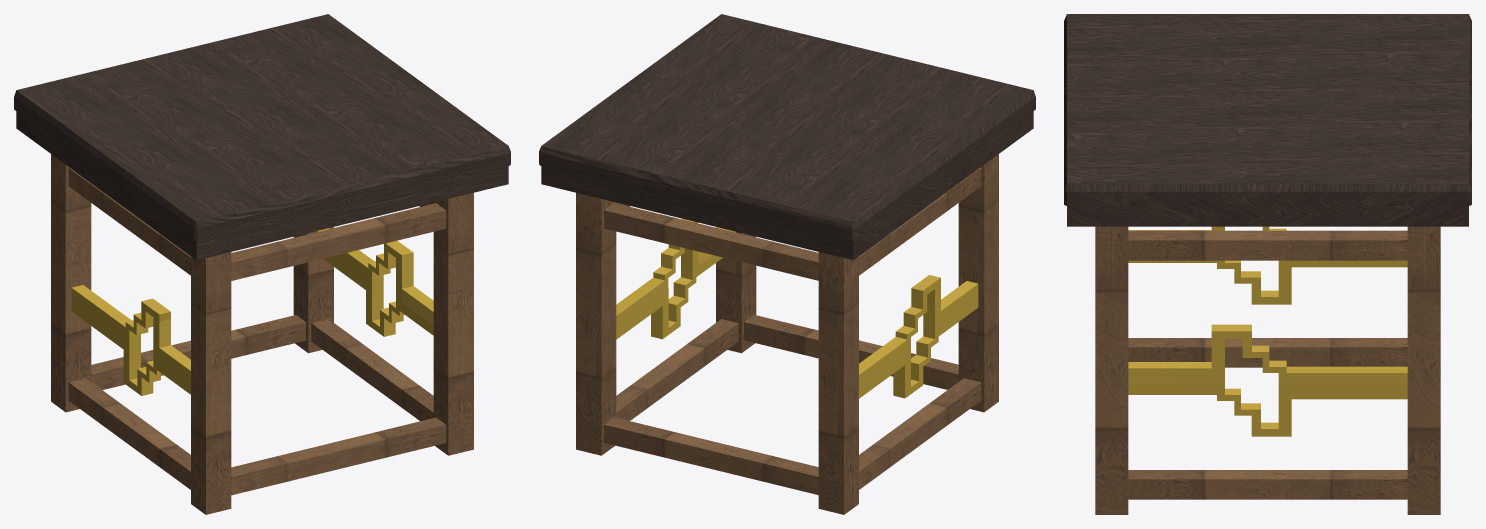
File: simple_wooden_side_table.glb
3 views of the same model, side by side, from view 1: azimuth 30°, elevation 25°; view 2: azimuth 150°, elevation 25°; view 3: azimuth 270°, elevation 25° (orthographic). The views are drawn at different scales.
Parts seen in each view (by area): view 1: Cube.022; view 2: Cube.022; view 3: Cube.022.
Part boxes in pixels (x1,y1,x2,y2): Cube.022: (14, 14, 510, 514); Cube.022: (539, 14, 1035, 514); Cube.022: (1064, 14, 1471, 514).
Bounding box in the file's own units: 1.74 × 1.62 × 1.74.
3 materials, 3 textured.
